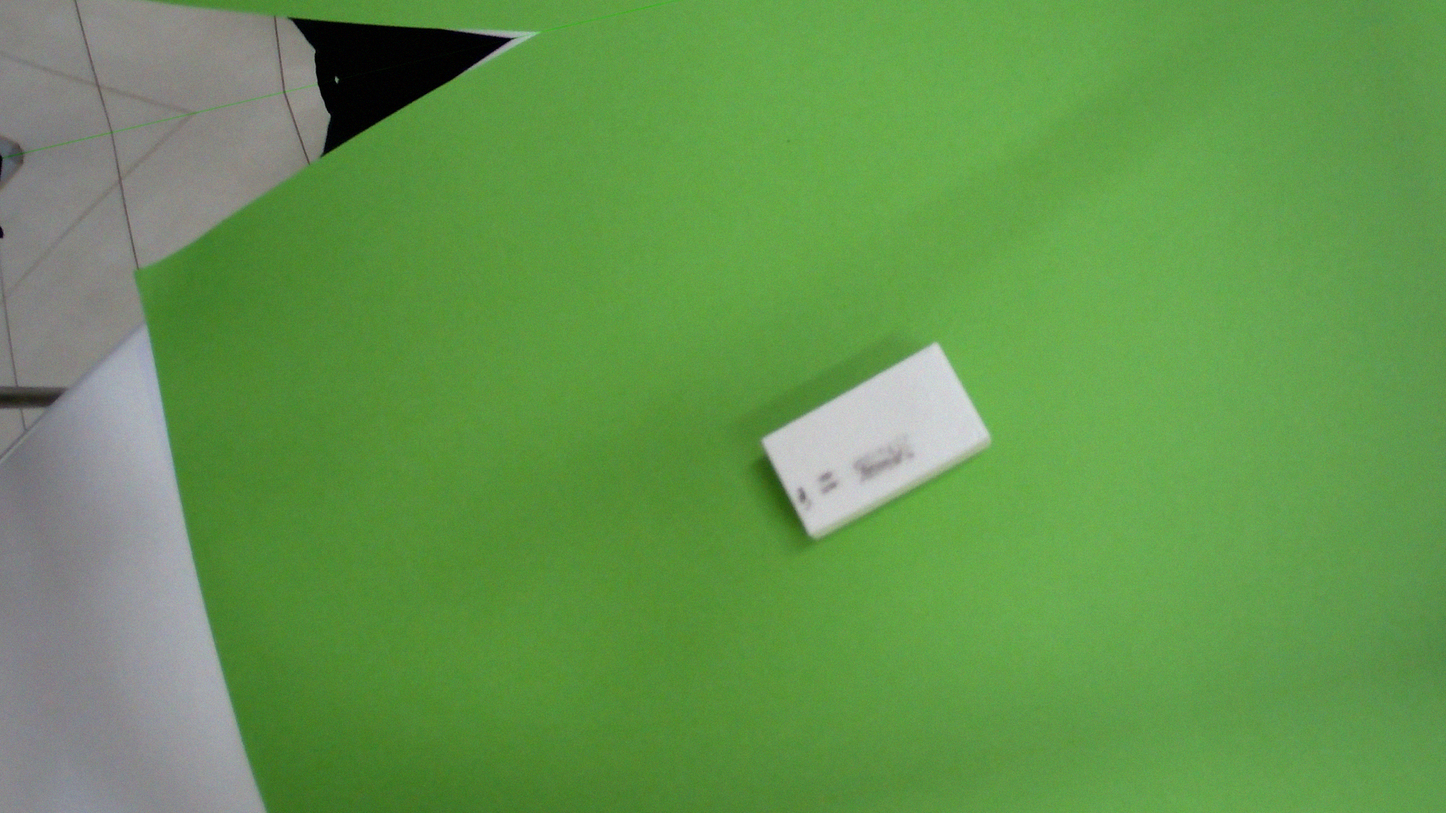gom: (736, 334, 1005, 553)
